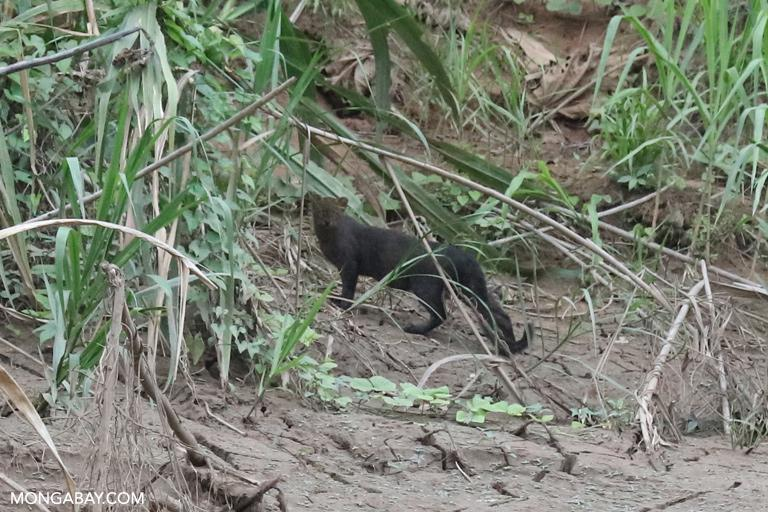Jaguarundi: (296, 189, 540, 356)
